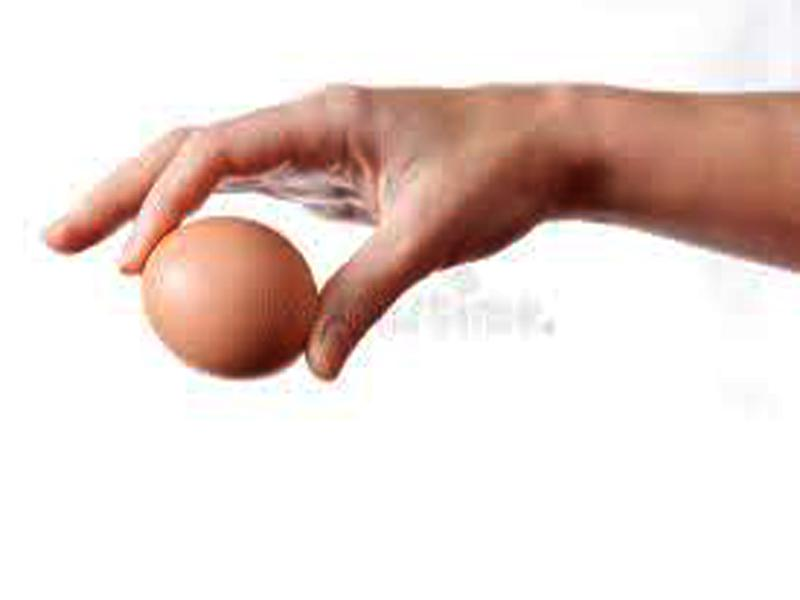Eggs: (143, 220, 320, 377)
